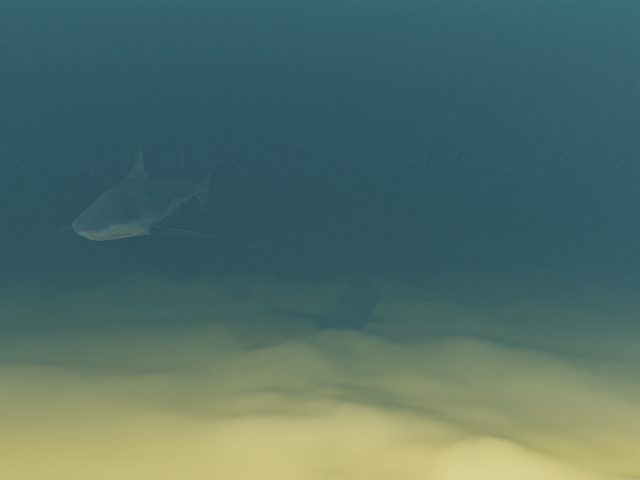Carribean Shark.001: (57, 142, 220, 240)
